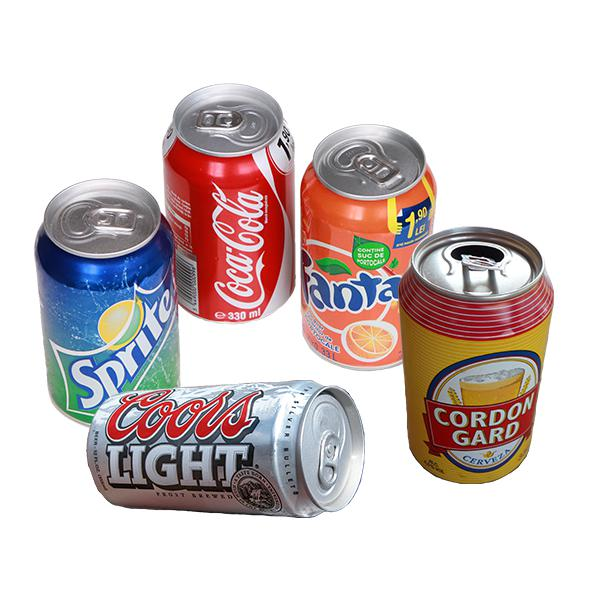cylinder: (398, 226, 554, 484), (87, 380, 365, 518), (35, 178, 181, 427), (300, 123, 437, 371), (162, 82, 296, 324)
